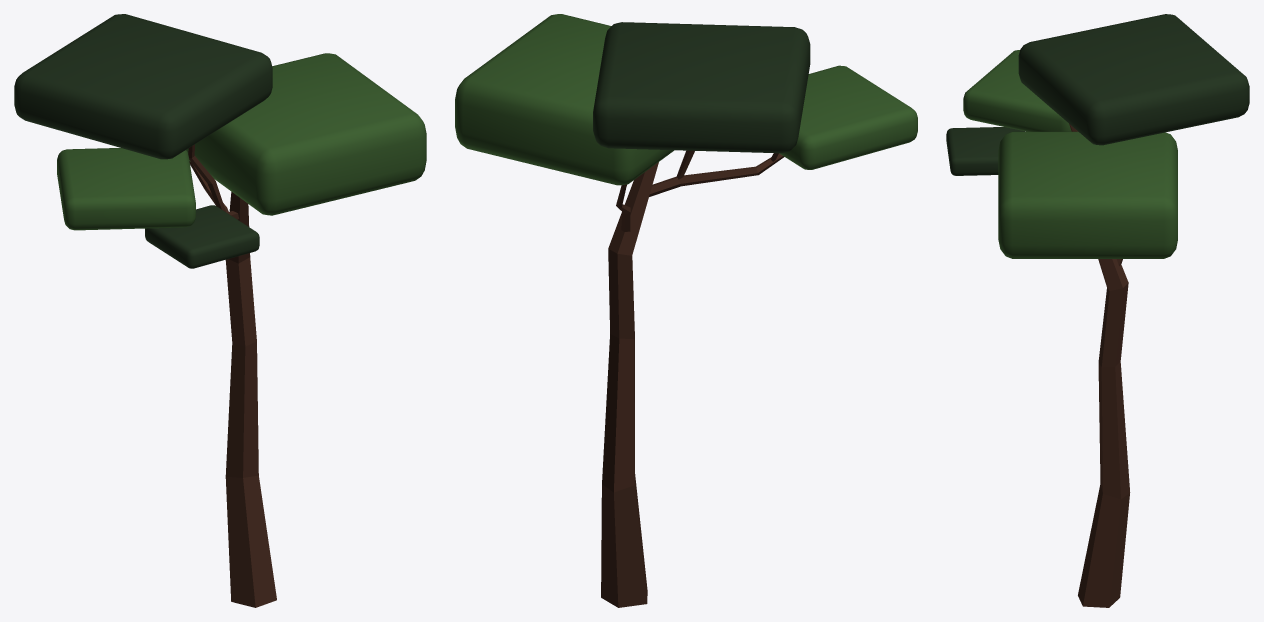
Rendered from TreeTall_02.glb.
The picture shows the model from 3 angles, left to right: view 1: azimuth 30°, elevation 25°; view 2: azimuth 150°, elevation 25°; view 3: azimuth 270°, elevation 25°; orthographic projection. The views are drawn at different scales.
Parts seen in each view (by area): view 1: TreeTall_02; view 2: TreeTall_02; view 3: TreeTall_02.
Boxes of the visible parts, <box> form: TreeTall_02: <box>14,14,426,607</box>; TreeTall_02: <box>455,14,917,607</box>; TreeTall_02: <box>946,14,1249,607</box>.
Size of what is drawn, in the model's own units: 4.22 by 6.15 by 3.37.
Materials: 1 (1 with a texture image).
